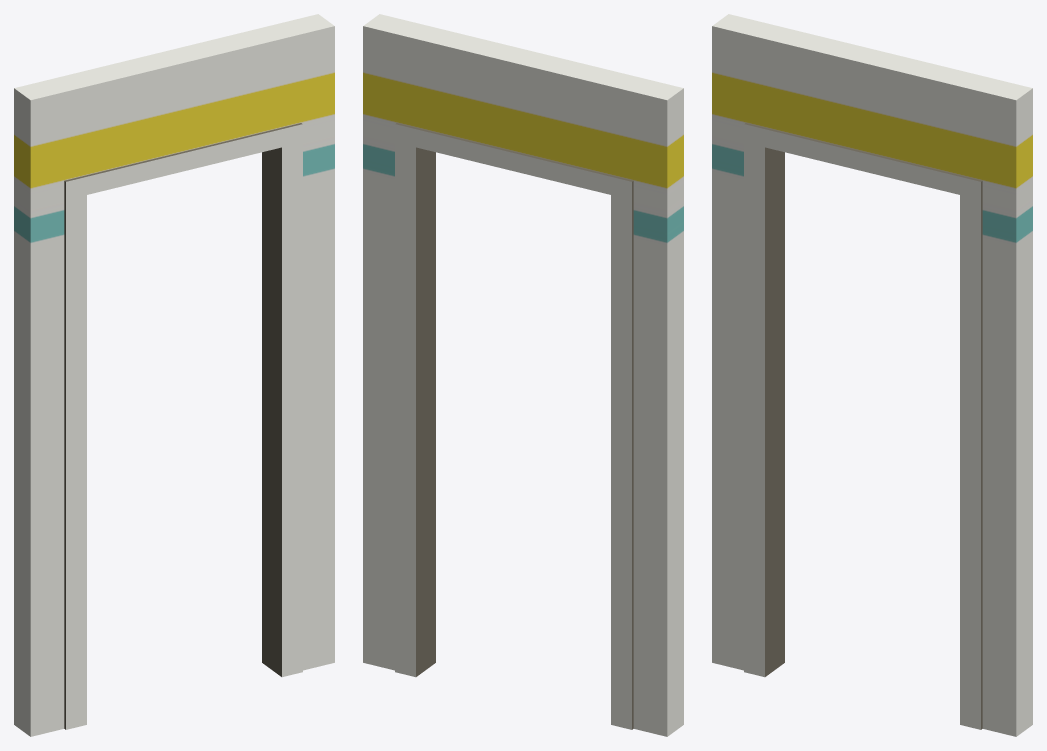
File: Store_Door_Wall.FBX
The picture shows the model from 3 angles, left to right: view 1: azimuth 30°, elevation 25°; view 2: azimuth 150°, elevation 25°; view 3: azimuth 330°, elevation 25°; orthographic projection.
Visible parts, largest first — view 1: Plane017; view 2: Plane017; view 3: Plane017.
Boxes of the visible parts, box(x1,y1,x2,y2) form: Plane017: box(14, 14, 334, 736); Plane017: box(363, 14, 683, 736); Plane017: box(712, 14, 1032, 736).
Bounding box in the file's own units: 33.46 × 66.93 × 3.78.
